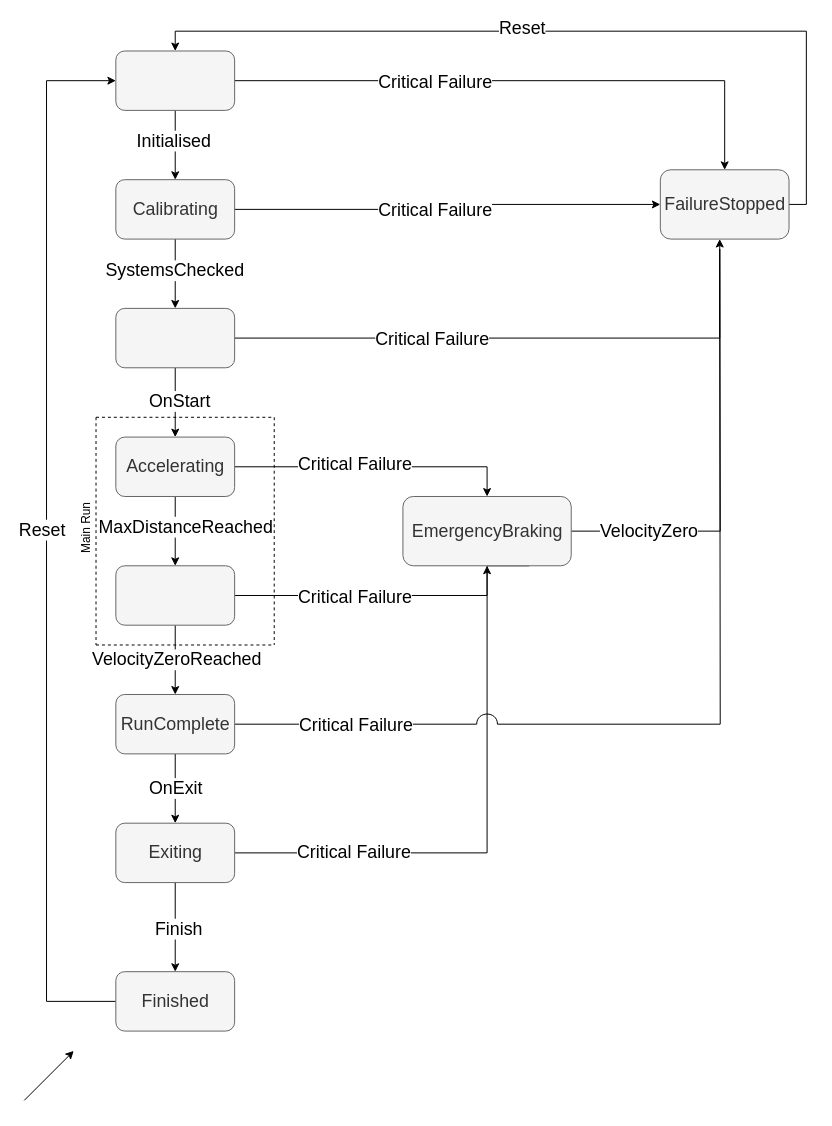
This 832x1126 diagram has some shape labels left out. The shapes that lost their labels are listed below. From the top down, each one's centre as x and y in pixels, then its label:
pixel 175 80: Idle
pixel 175 337: Ready
pixel 175 595: Nominal Braking
